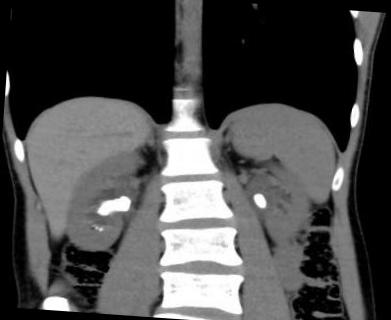Tas_Var: (90, 188, 132, 221), (248, 190, 272, 212), (89, 223, 98, 230), (96, 227, 104, 233)
